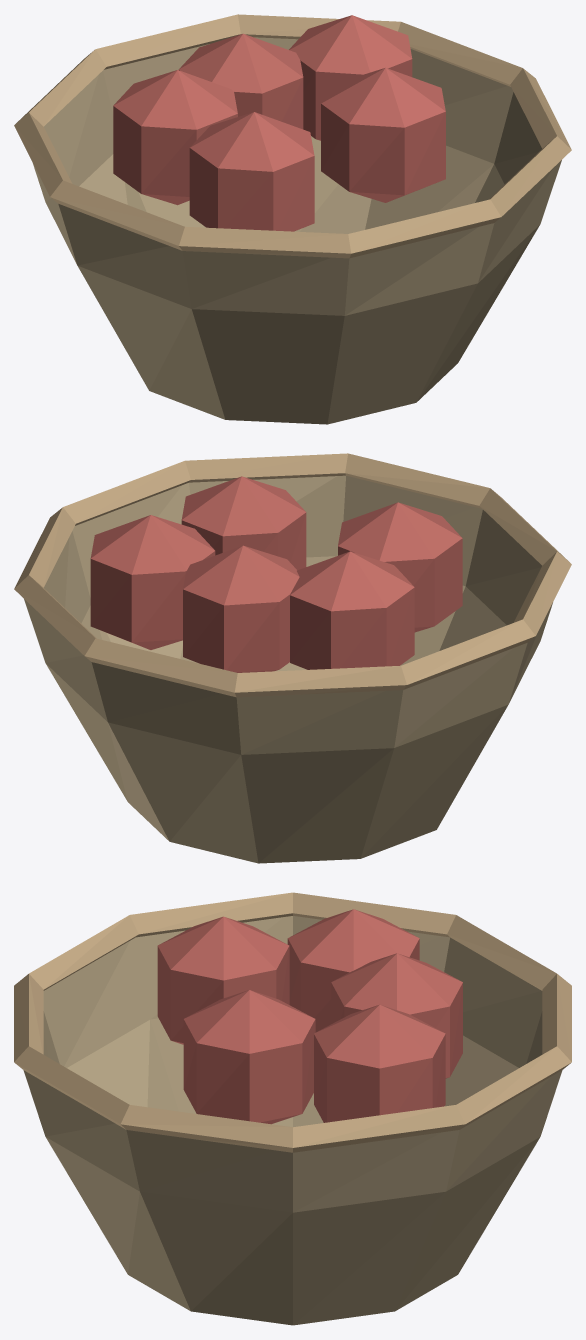
Rendered from basket_apples.glb.
3 views of the same model, one above another, from view 1: azimuth 30°, elevation 25°; view 2: azimuth 150°, elevation 25°; view 3: azimuth 270°, elevation 25° (orthographic). The views are drawn at different scales.
Parts seen in each view (by area): view 1: basket_apples; view 2: basket_apples; view 3: basket_apples.
Boxes of the visible parts, left/top/right/bottom form: basket_apples: left=14, top=14, right=571, bottom=424; basket_apples: left=14, top=453, right=571, bottom=863; basket_apples: left=14, top=892, right=571, bottom=1325.
Size of the model in its own units: 0.676 by 0.38 by 0.6429.
